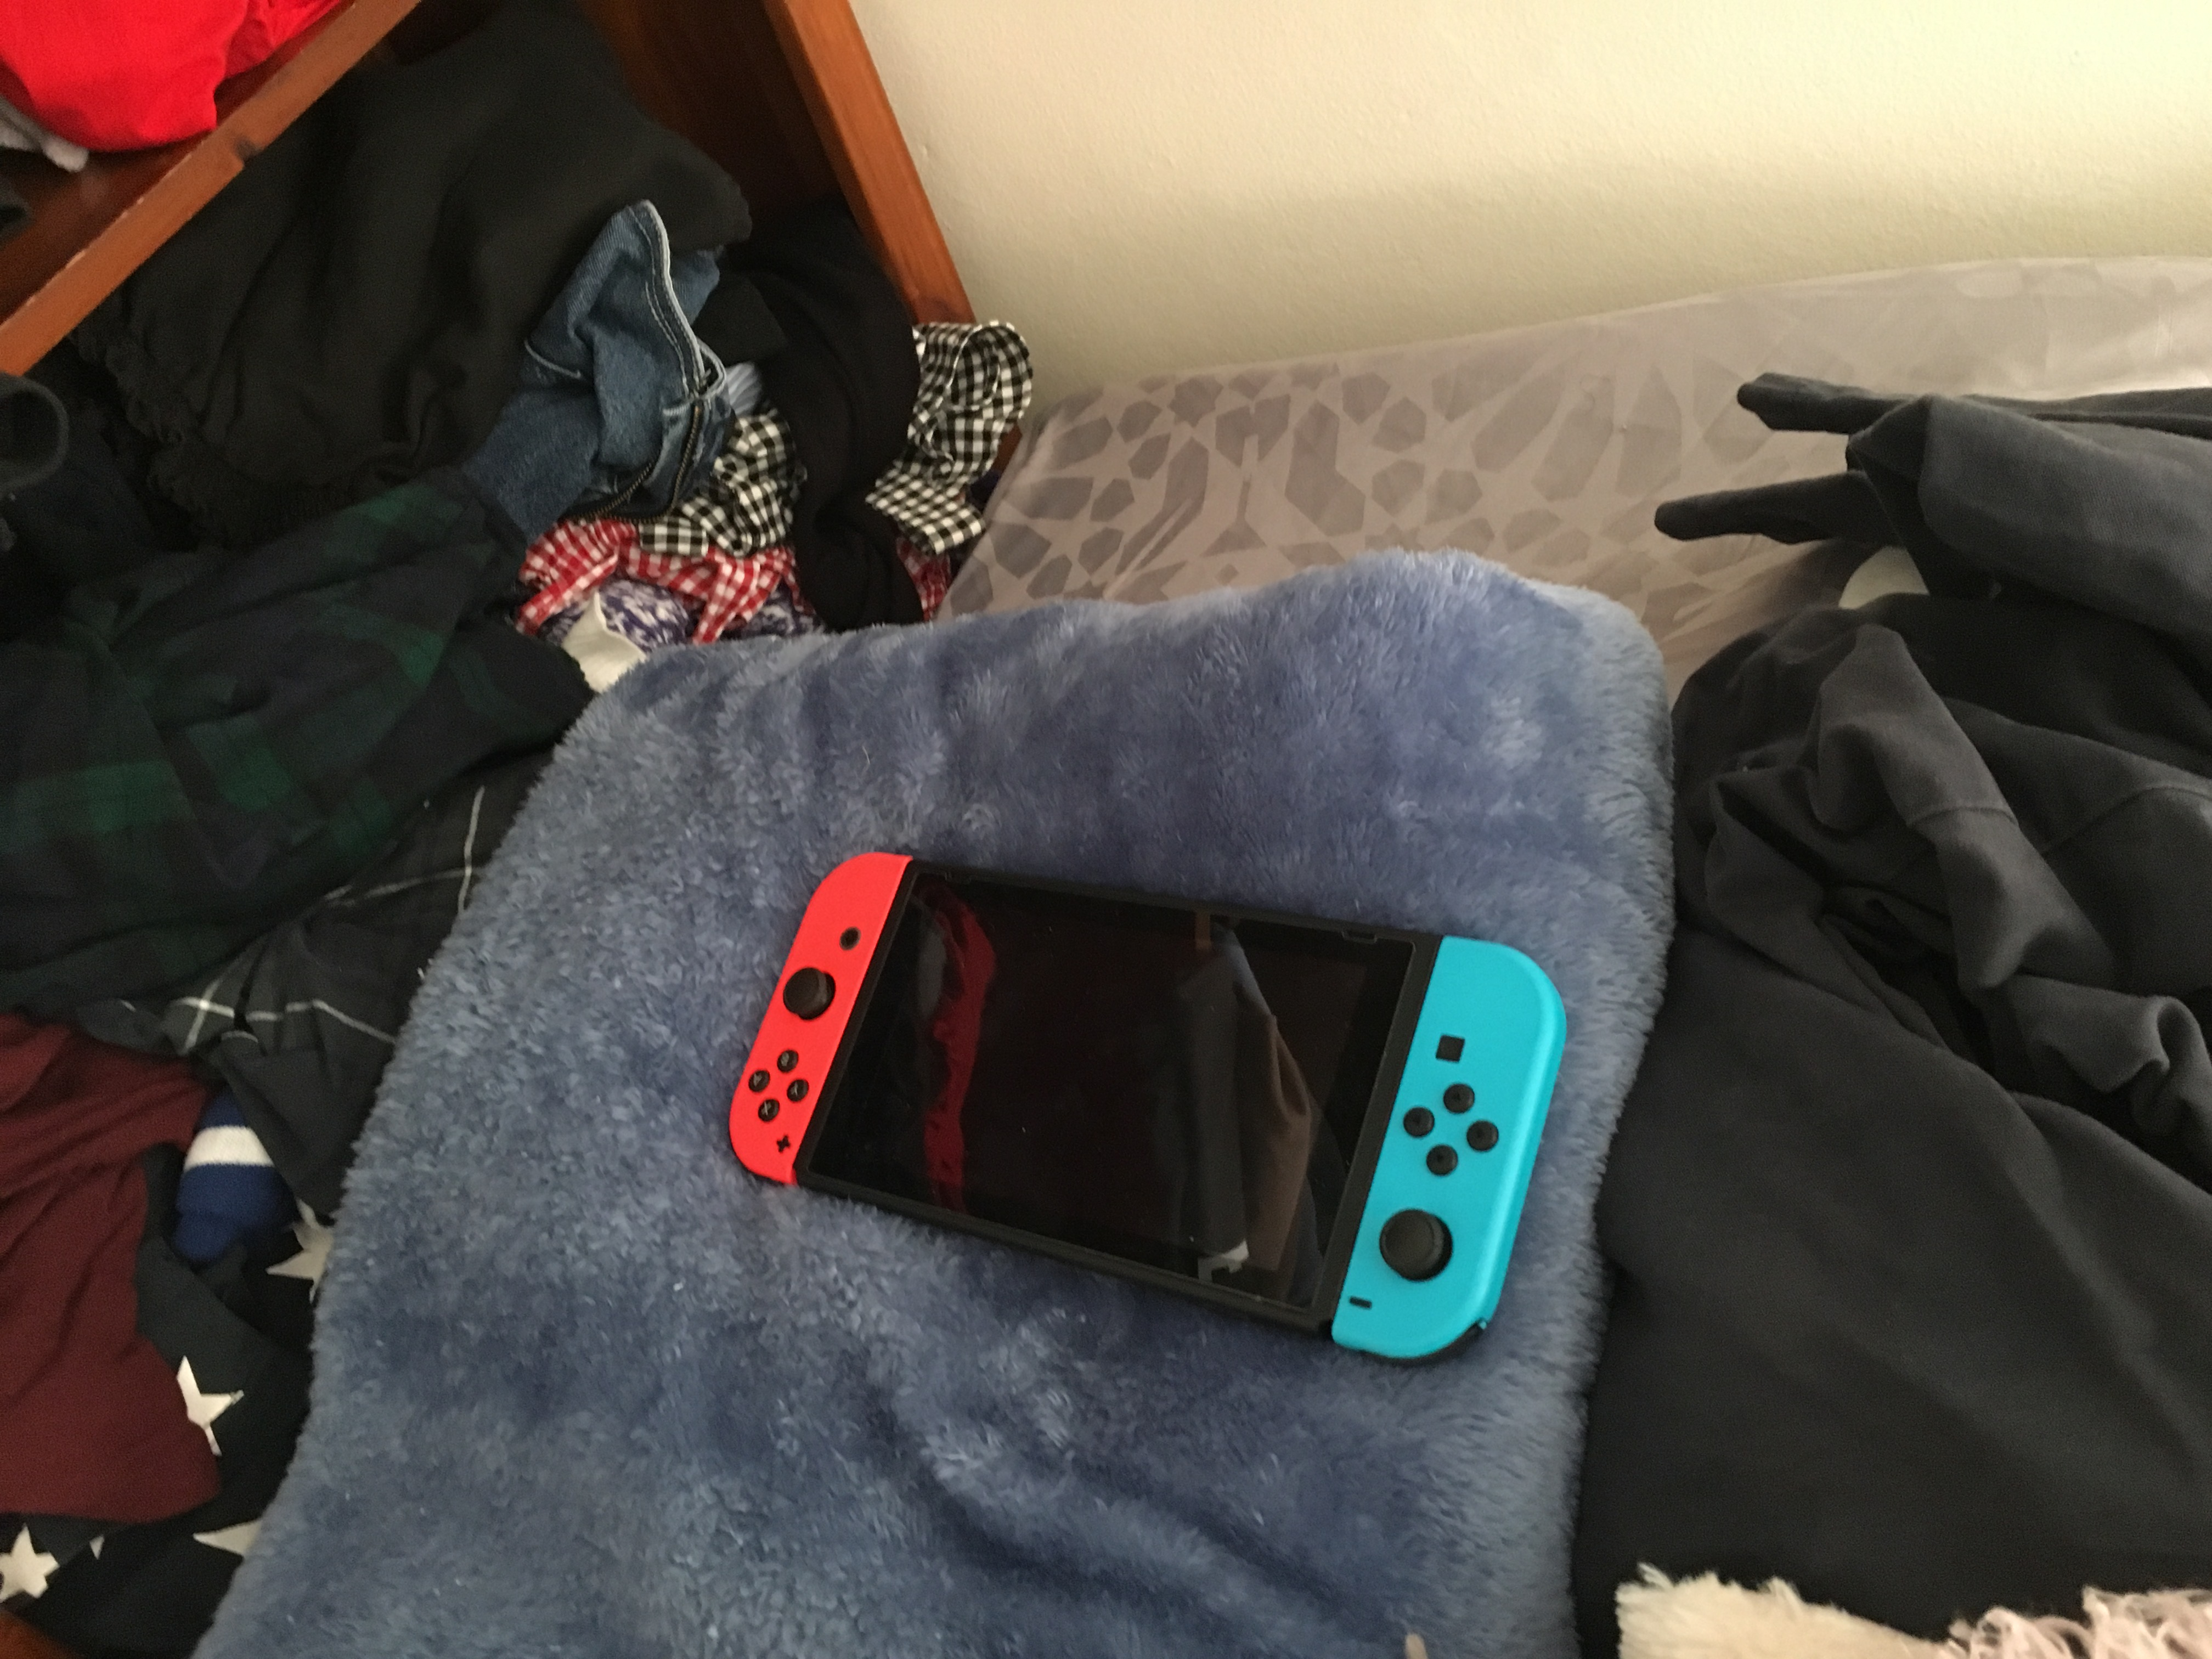NintendoSwitch: (719, 845, 1581, 1371)
